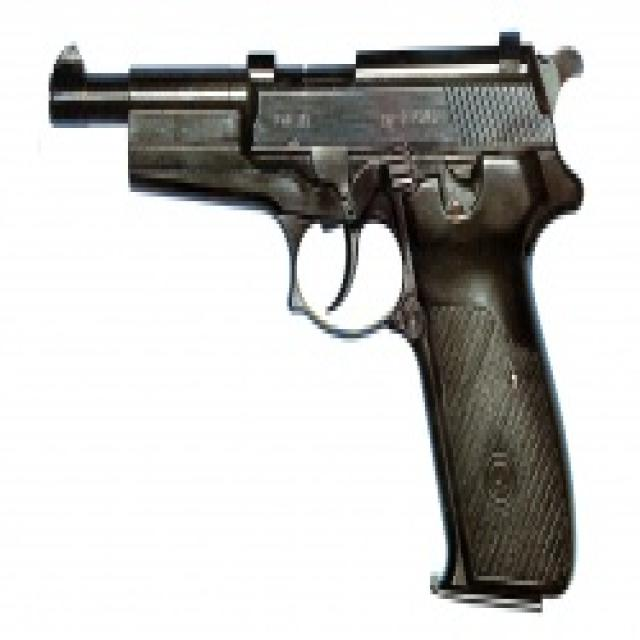pistol: (40, 17, 594, 632)
